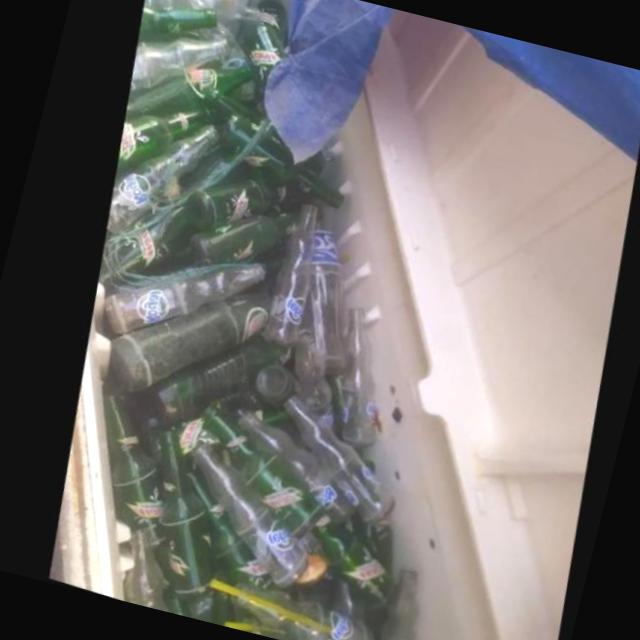chai_thuy_tinh: (188, 447, 307, 588), (198, 410, 320, 543), (121, 338, 284, 436), (106, 299, 267, 397), (280, 399, 391, 526), (235, 415, 352, 527), (101, 129, 211, 236), (99, 267, 260, 340), (153, 432, 213, 604), (100, 400, 165, 552), (290, 222, 341, 387), (230, 586, 375, 640), (258, 207, 312, 351), (118, 68, 252, 123), (184, 206, 292, 270), (329, 311, 376, 454), (110, 114, 202, 176), (179, 184, 290, 235), (308, 529, 384, 598), (122, 42, 218, 96), (242, 0, 281, 93), (121, 530, 163, 611), (130, 10, 209, 46)
ong_hut_nhua: (208, 582, 338, 639), (226, 626, 284, 635)
